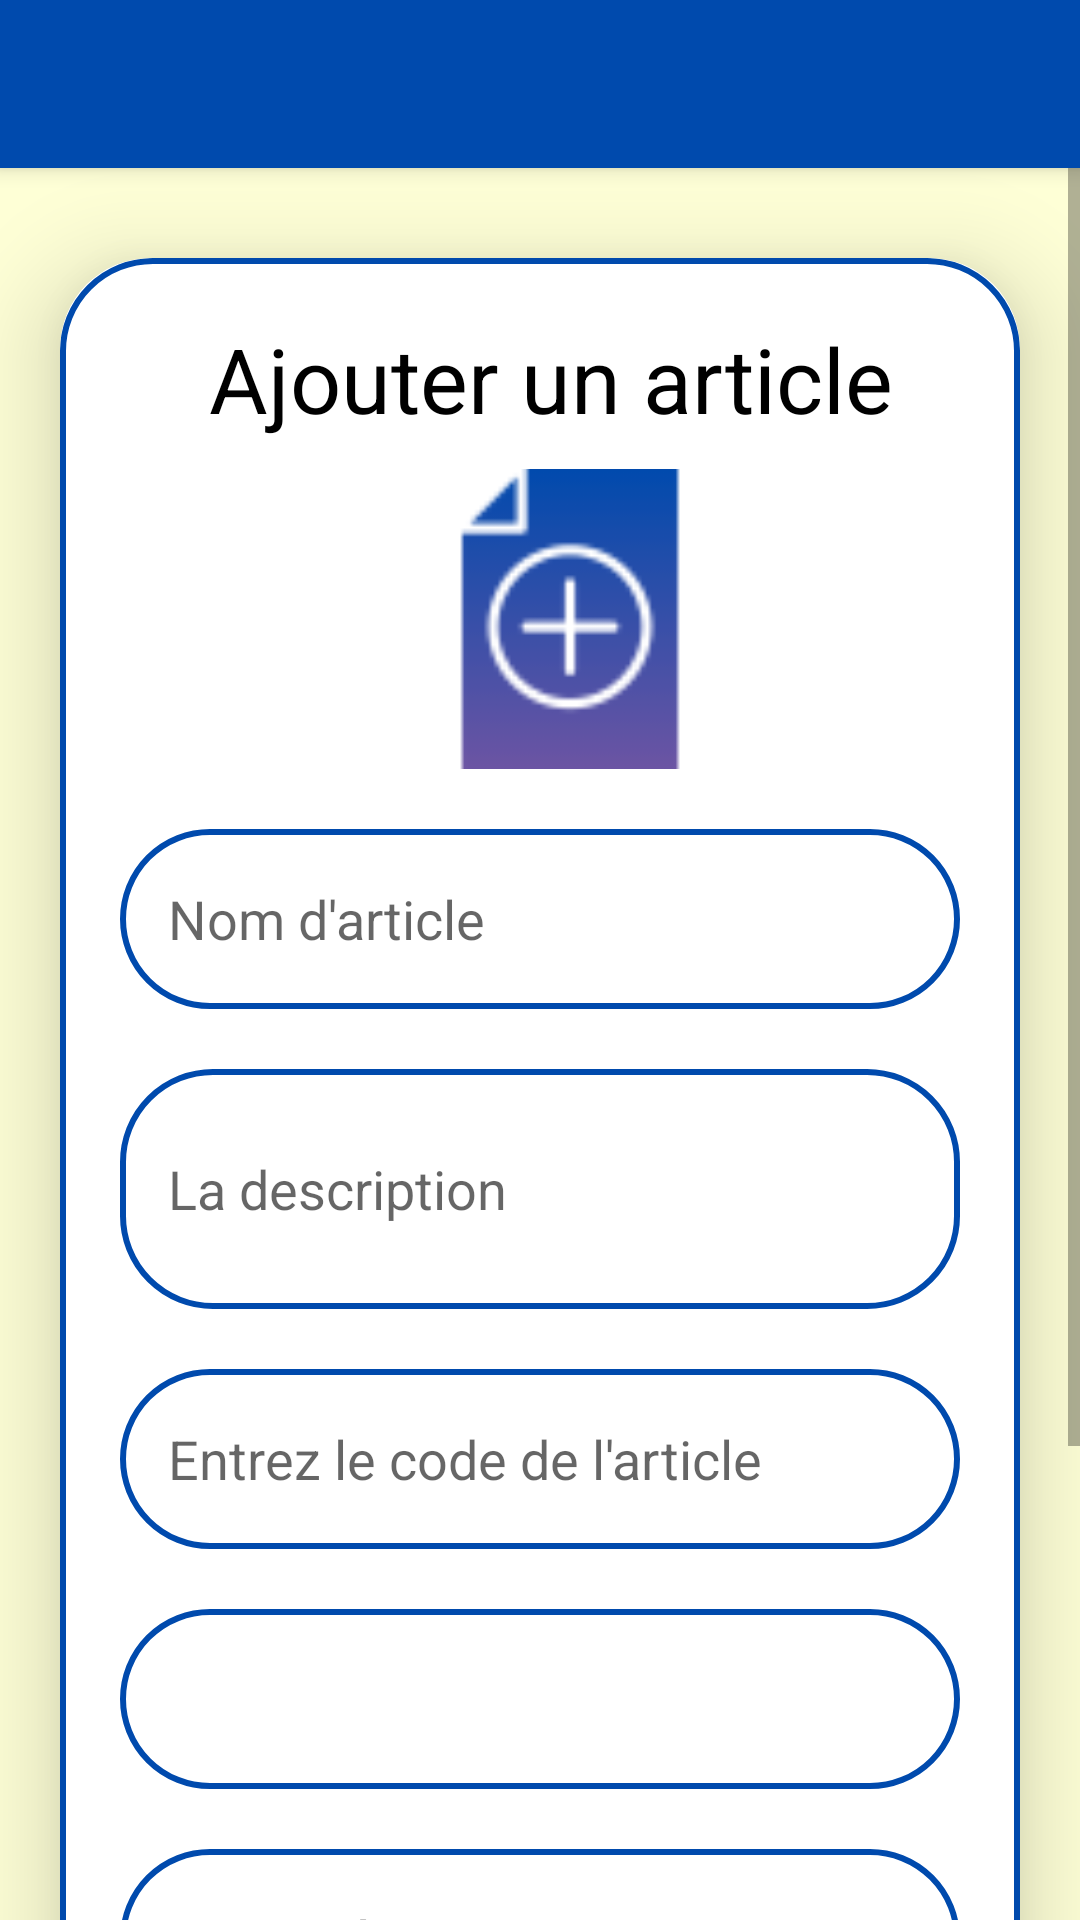

Named icons in this screenshot (1080 x 1920) and their bounding boxes, [x1,y1,x2,y2]:
uploadimage: [460,469,680,769]
